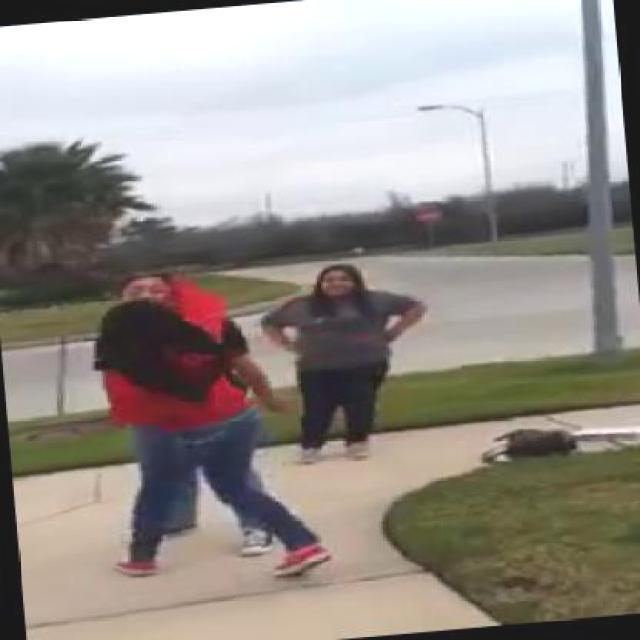fight: (79, 252, 327, 596)
non-fight: (264, 251, 440, 466)
